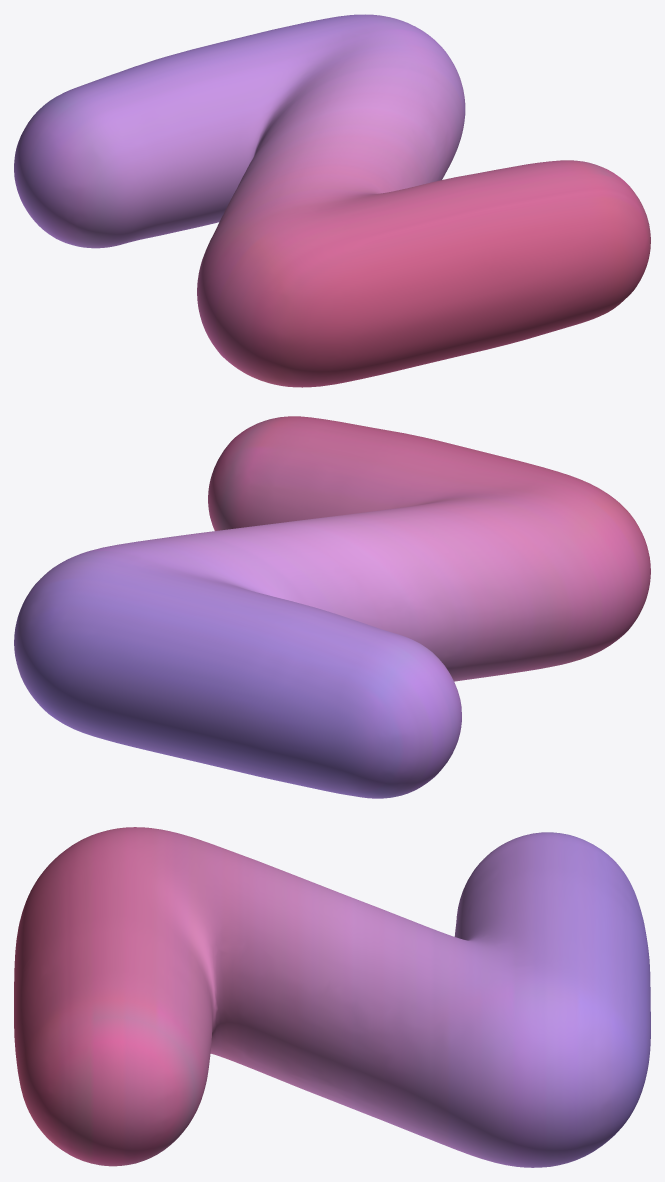
3 views of the same model, one above another, from view 1: azimuth 30°, elevation 25°; view 2: azimuth 150°, elevation 25°; view 3: azimuth 270°, elevation 25° (orthographic). The views are drawn at different scales.
Parts seen in each view (by area): view 1: Z; view 2: Z; view 3: Z.
Boxes of the visible parts, x1=… form: Z: x1=14, y1=14, x2=650, y2=387; Z: x1=14, y1=416, x2=650, y2=798; Z: x1=14, y1=827, x2=650, y2=1167.
Bounding box in the file's own units: 0.6213 × 0.2273 × 0.7263.
Materials: 1 (1 with a texture image).
